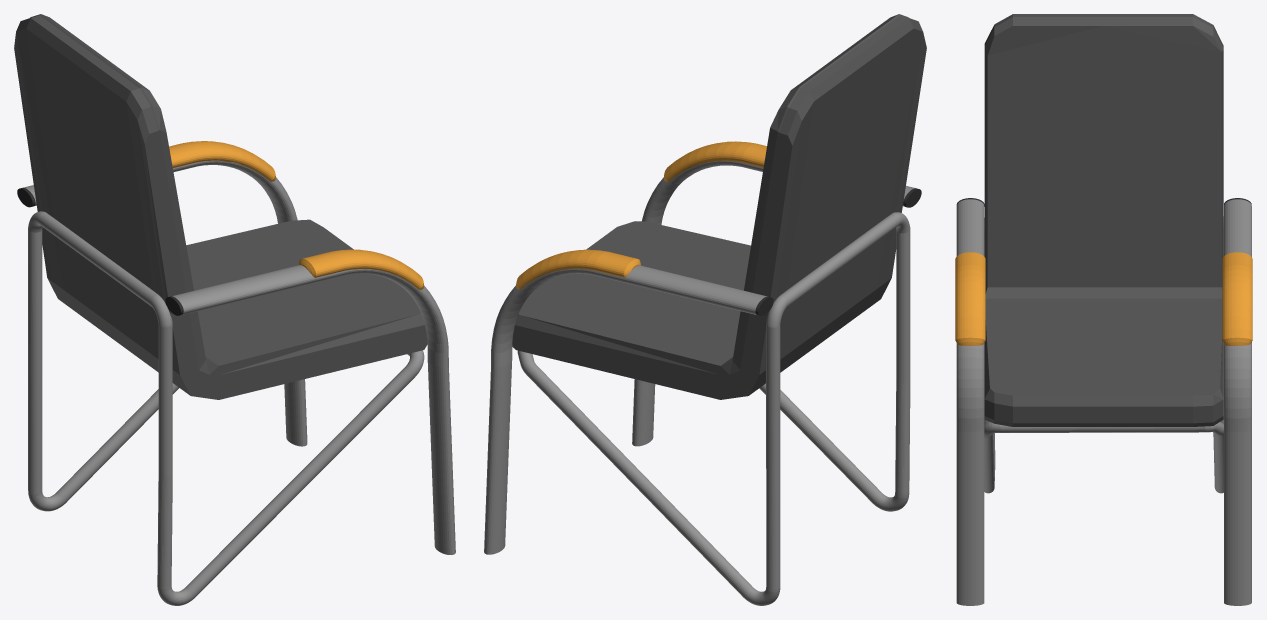
Rendered from lectorium_chair_visual_grey.dae.
The picture shows the model from 3 angles, left to right: view 1: azimuth 30°, elevation 25°; view 2: azimuth 150°, elevation 25°; view 3: azimuth 270°, elevation 25°; orthographic projection. The views are drawn at different scales.
Parts seen in each view (by area): view 1: Cube_005; view 2: Cube_005; view 3: Cube_005.
Part boxes in pixels (box(x1,y1,x2,y2)): Cube_005: box(14, 14, 455, 605); Cube_005: box(484, 14, 926, 605); Cube_005: box(955, 14, 1252, 605).
Size of the model in its own units: 43.49 by 40.96 by 70.38.
